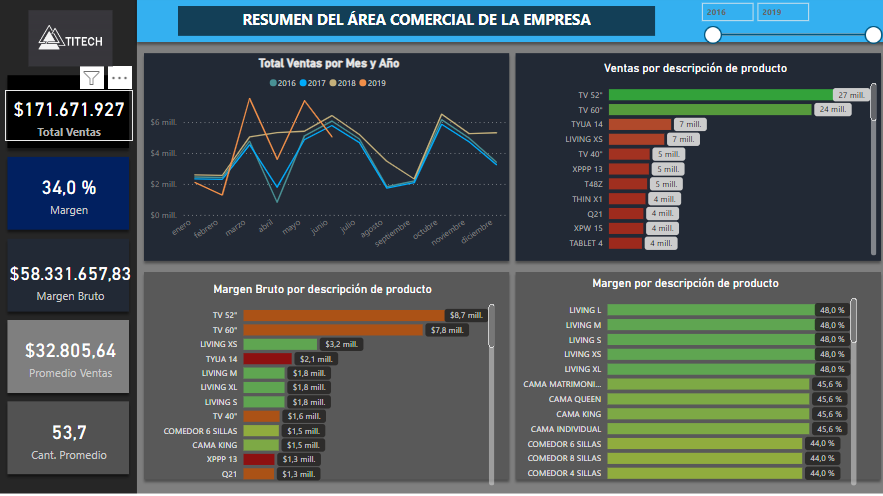

The page's visual inventory and layout, read from the dashboard file:
{"tool":"powerbi","page":{"name":"Página 1","canvas":[1280,720],"ordinal":0},"visuals":[{"type":"card","fields":{"Values":["Indicadores.Total Ventas"]},"box":[8.6,135.4,184.3,73.4],"z":0},{"type":"card","fields":{"Values":["Indicadores.Cantidad Promedio"]},"box":[20.2,597.6,161.3,79.2],"z":1},{"type":"card","fields":{"Values":["Indicadores.Promedio Ventas"]},"box":[20.2,476.6,165.6,85],"z":2},{"type":"card","fields":{"Values":["Indicadores.Margen Bruto"]},"box":[14.4,239,172.8,89.3],"z":3},{"type":"card","fields":{"Values":["Indicadores.Margen Bruto $"]},"box":[10.1,360,185.8,96.5],"z":4},{"type":"lineChart","fields":{"Category":["Ventas.Fecha.Variación.Jerarquía de fechas.Mes"],"Y":["Indicadores.Total Ventas"],"Series":["Ventas.Año"]},"box":[213.1,86.4,524.2,298.1],"z":5},{"type":"slicer","fields":{"Values":["Ventas.Fecha.Variación.Jerarquía de fechas.Año"]},"box":[999.4,0,280.8,72],"z":6},{"type":"clusteredBarChart","title":"Ventas por descripción de producto","fields":{"Category":["Ventas.Descripcion"],"Y":["Sum(Ventas.Ventas)"]},"box":[737.3,93.6,531.4,285.1],"z":7},{"type":"clusteredBarChart","title":"Margen por descripción de producto","fields":{"Category":["Ventas.Descripcion"],"Y":["Indicadores.Margen"]},"box":[737.3,403.2,502.6,306.7],"z":8},{"type":"clusteredBarChart","title":"Margen Bruto por descripción de producto","fields":{"Category":["Ventas.Descripcion"],"Y":["Indicadores.Margen Bruto"]},"box":[213.1,411.8,505.4,298.1],"z":9},{"type":"textbox","box":[257.8,14.4,686.9,43.2],"z":10},{"type":"image","box":[37.4,14.4,131,93.6],"z":12}]}

Visuals, with their boxes in screenshot pixels (x1, y1, x2, y2), scaled from the page's 1280x720 canvas onto the 883x496 screenshot:
card - Indicadores.Total Ventas: detection(6, 93, 133, 144)
card - Indicadores.Cantidad Promedio: detection(14, 412, 125, 466)
card - Indicadores.Promedio Ventas: detection(14, 328, 128, 387)
card - Indicadores.Margen Bruto: detection(10, 165, 129, 226)
card - Indicadores.Margen Bruto $: detection(7, 248, 135, 314)
lineChart - Ventas.Fecha.Variación.Jerarquía de fechas.Mes x Indicadores.Total Ventas: detection(147, 60, 509, 265)
slicer - Ventas.Fecha.Variación.Jerarquía de fechas.Año: detection(689, 0, 882, 50)
"Ventas por descripción de producto" clusteredBarChart: detection(509, 64, 875, 261)
"Margen por descripción de producto" clusteredBarChart: detection(509, 278, 855, 489)
"Margen Bruto por descripción de producto" clusteredBarChart: detection(147, 284, 496, 489)
textbox: detection(178, 10, 652, 40)
image: detection(26, 10, 116, 74)
